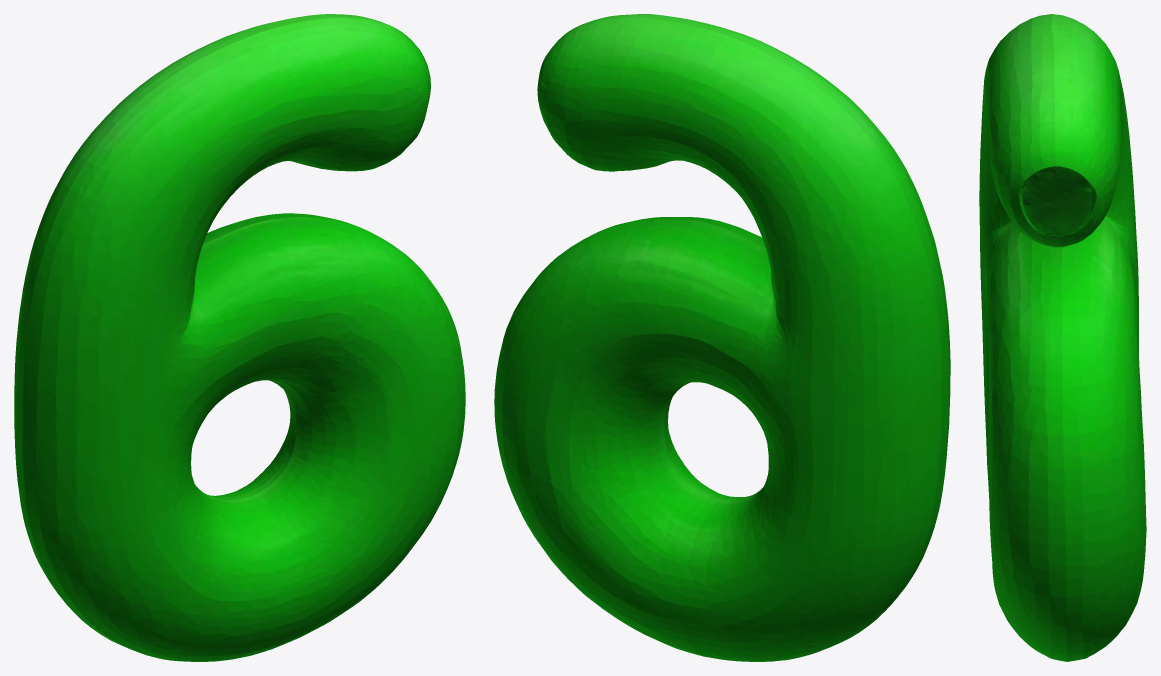
The picture shows the model from 3 angles, left to right: view 1: azimuth 30°, elevation 25°; view 2: azimuth 150°, elevation 25°; view 3: azimuth 270°, elevation 25°; orthographic projection. The views are drawn at different scales.
Parts seen in each view (by area): view 1: geometry_0; view 2: geometry_0; view 3: geometry_0.
Part boxes in pixels (x1=…): geometry_0: x1=14, y1=14, x2=465, y2=661; geometry_0: x1=494, y1=14, x2=950, y2=661; geometry_0: x1=979, y1=14, x2=1146, y2=661.
Bounding box in the file's own units: 0.74 × 0.9999 × 0.2497.
1 material, 1 textured.
